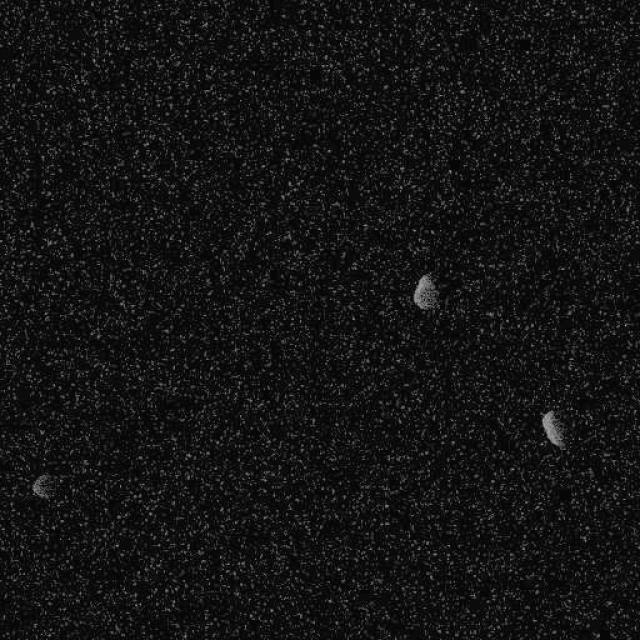D2: (411, 272, 439, 312), (540, 408, 566, 448), (32, 471, 58, 500)
